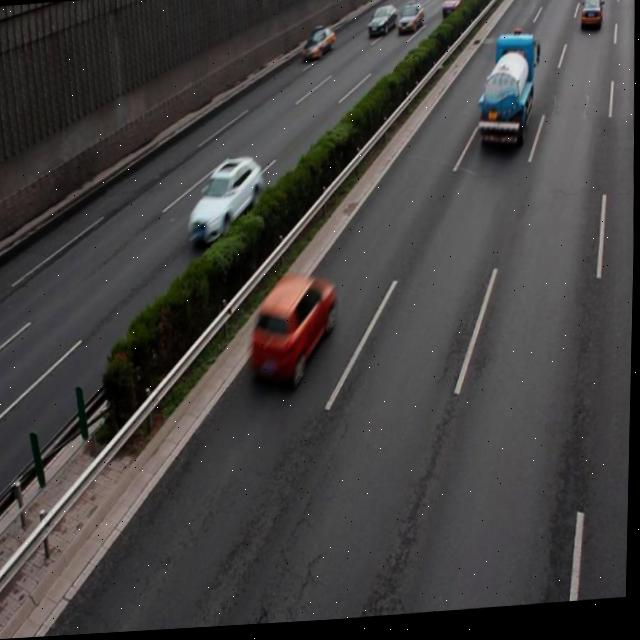bus: (475, 38, 534, 153)
car: (248, 276, 340, 393), (185, 156, 266, 249), (302, 27, 334, 66)
